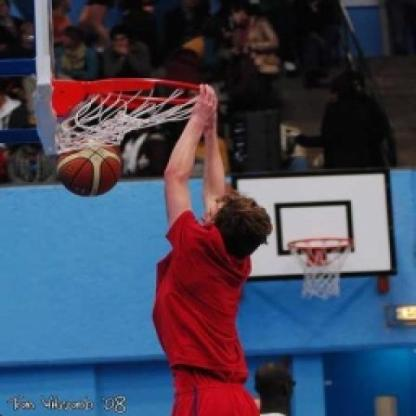basketball: (53, 133, 126, 201)
